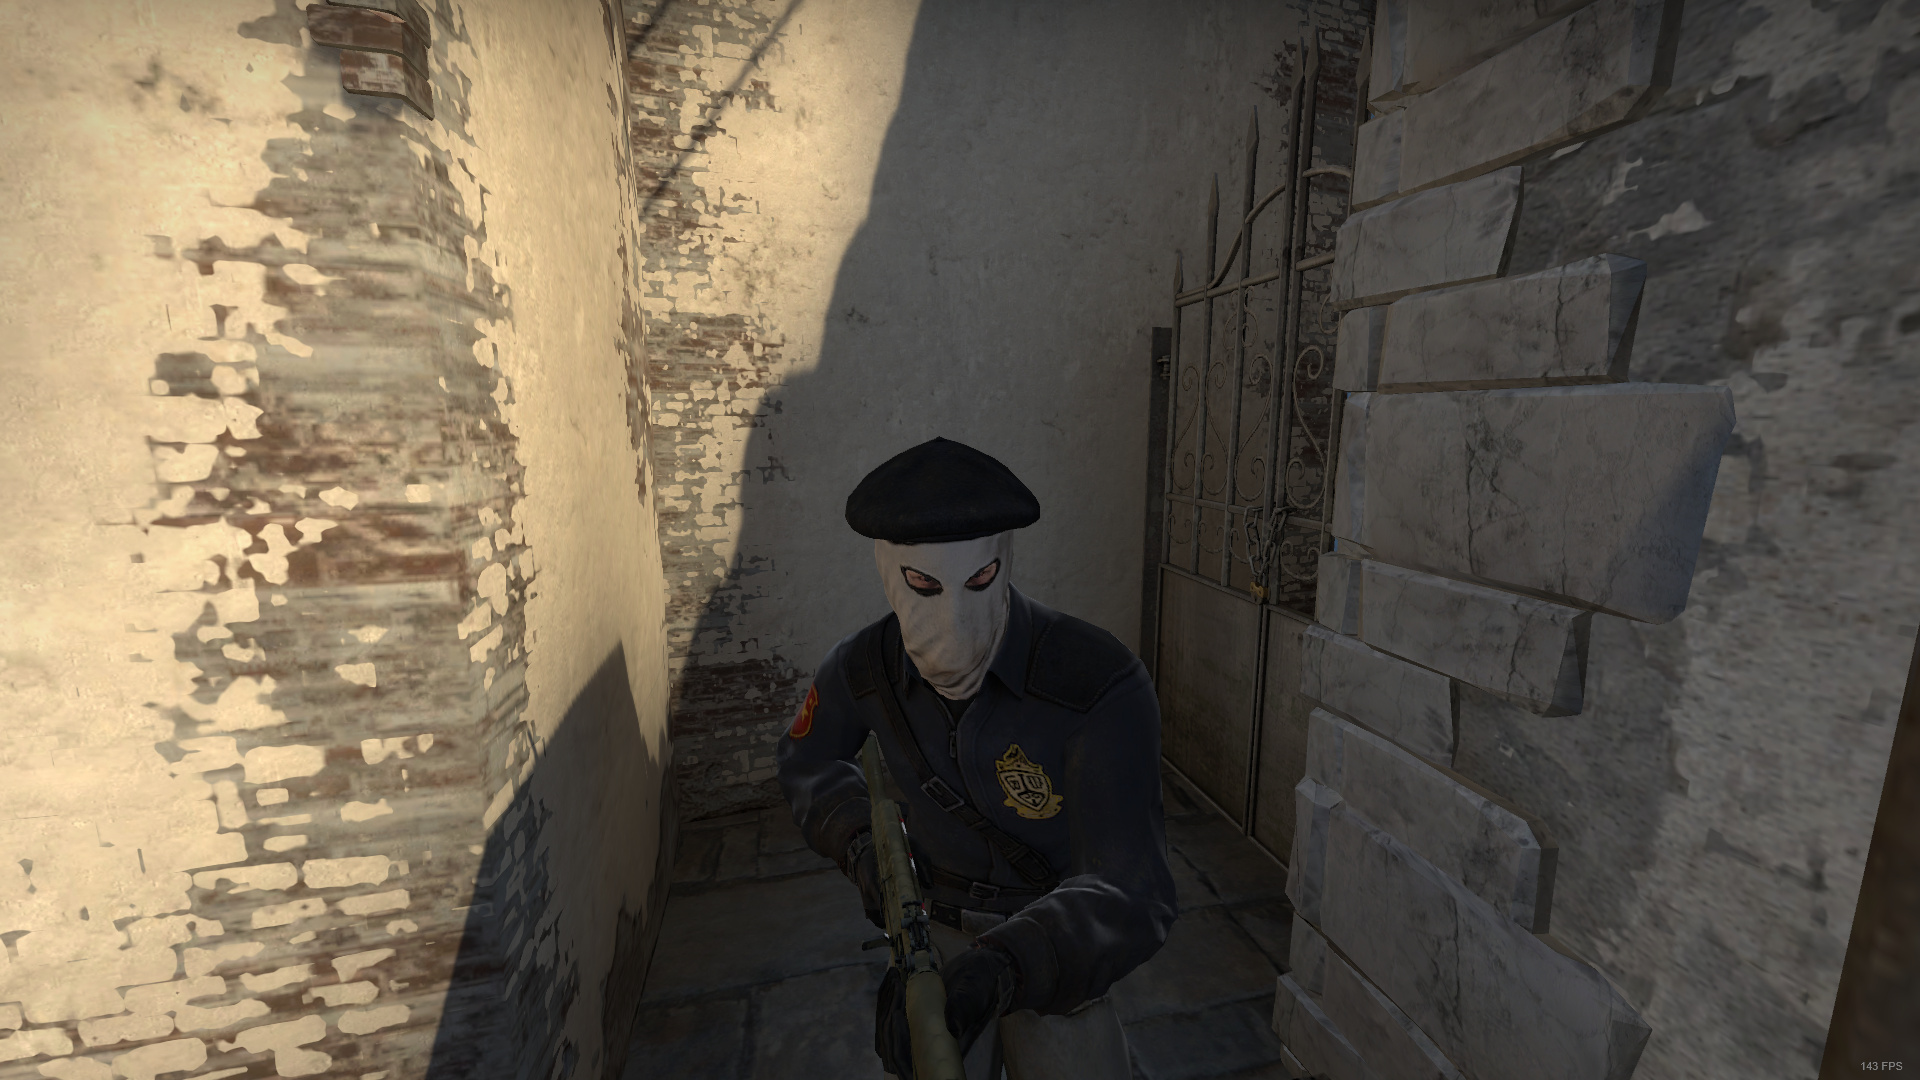t: (762, 439, 1184, 1076)
